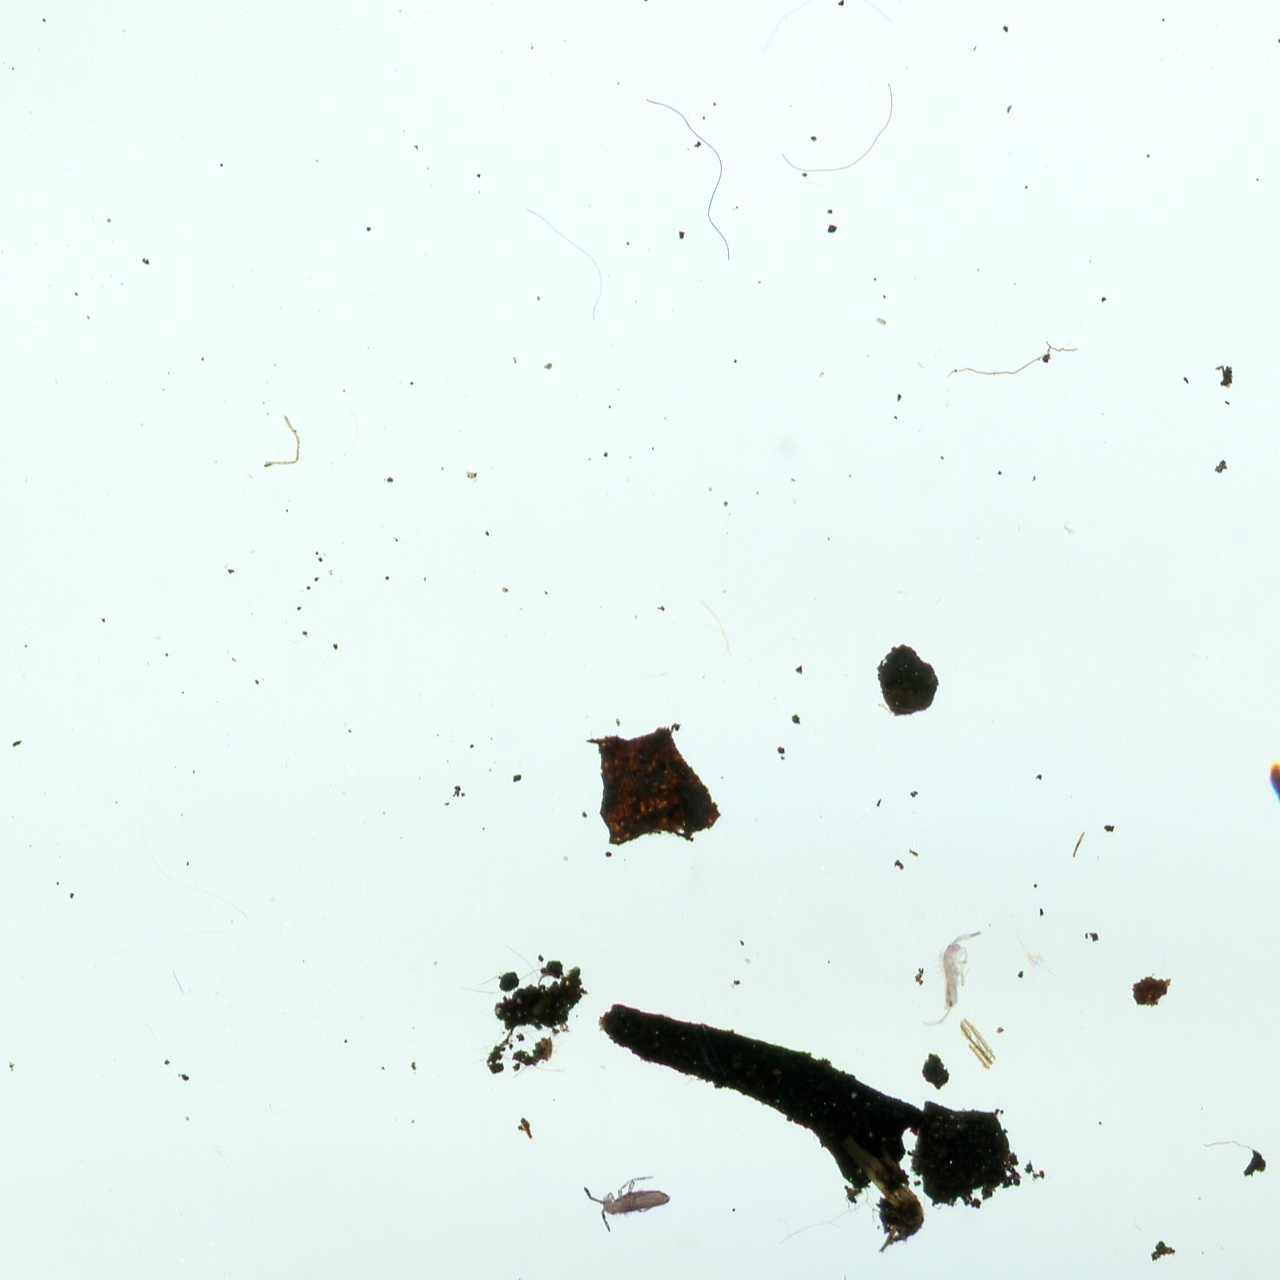arthropod: (919, 927, 981, 1027), (581, 1176, 669, 1233)
